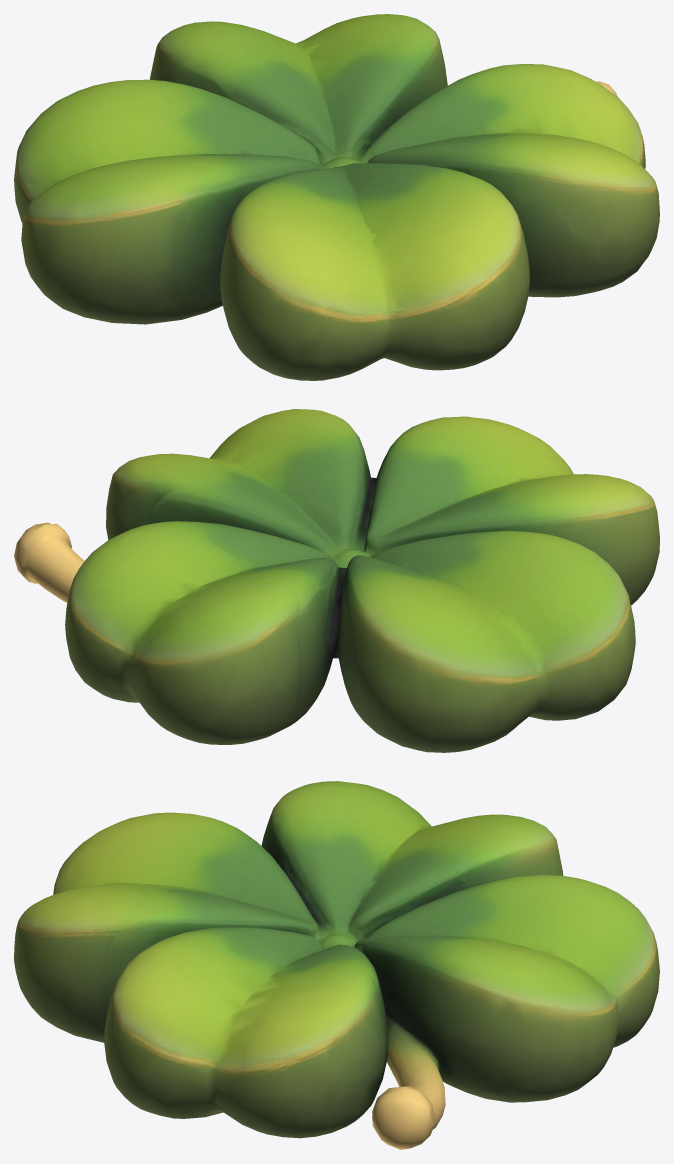
Rendered from four_leaf_clover.glb.
3 renders of one model, top to bottom at view 1: azimuth 30°, elevation 25°; view 2: azimuth 150°, elevation 25°; view 3: azimuth 270°, elevation 25°, orthographic. The views are drawn at different scales.
Parts seen in each view (by area): view 1: tripo_node_cc948486-f104-4df8-9cee-ef7d2026b899; view 2: tripo_node_cc948486-f104-4df8-9cee-ef7d2026b899; view 3: tripo_node_cc948486-f104-4df8-9cee-ef7d2026b899.
Boxes of the visible parts, x1,y1,x2,y2 form: tripo_node_cc948486-f104-4df8-9cee-ef7d2026b899: [14, 14, 659, 380]; tripo_node_cc948486-f104-4df8-9cee-ef7d2026b899: [14, 409, 659, 752]; tripo_node_cc948486-f104-4df8-9cee-ef7d2026b899: [14, 781, 659, 1149].
Size of the model in its own units: 1 by 0.2409 by 0.9467.
Materials: 1 (1 with a texture image).
